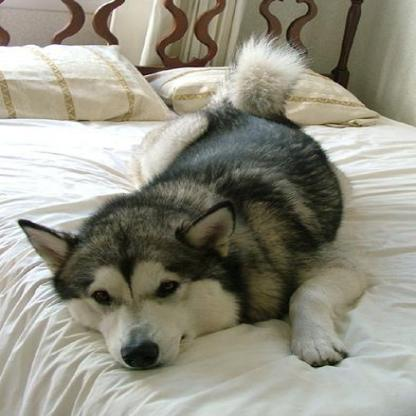malamute: (15, 34, 369, 370)
